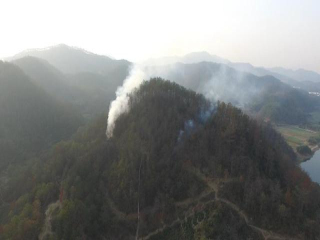smoke: (107, 63, 150, 146), (190, 76, 238, 137)
